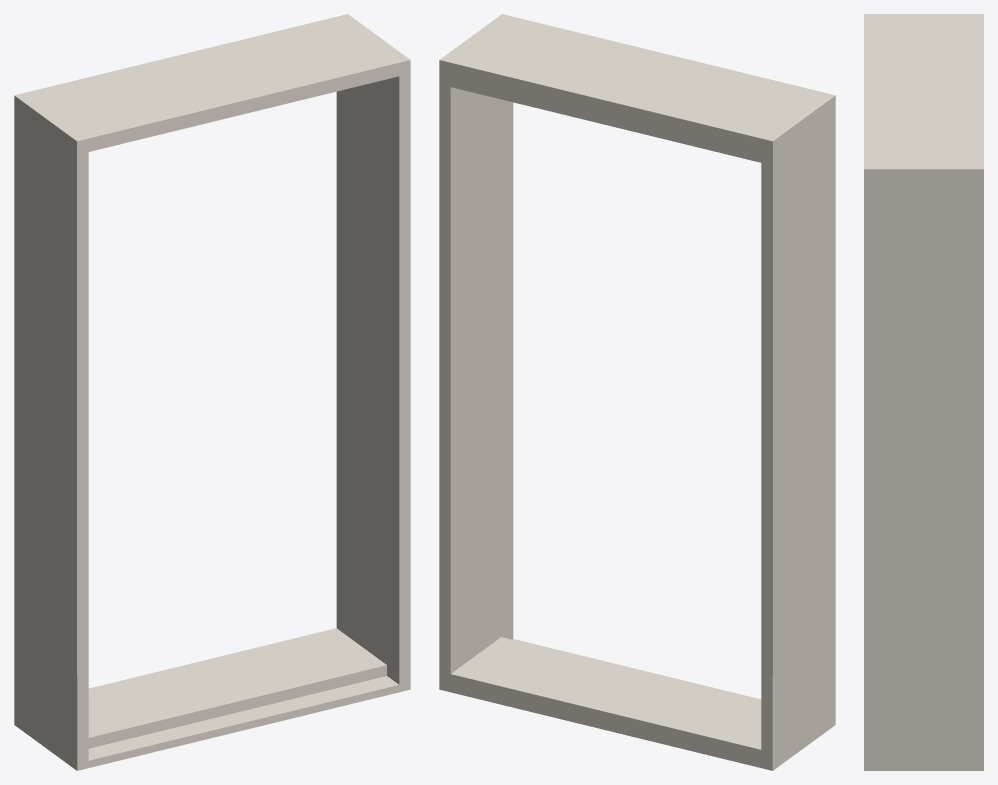
The model's file is Itr_Doorframe_07.FBX.
3 views of the same model, side by side, from view 1: azimuth 30°, elevation 25°; view 2: azimuth 150°, elevation 25°; view 3: azimuth 270°, elevation 25° (orthographic). The views are drawn at different scales.
Visible parts, largest first — view 1: Itr_Doorframe_07; view 2: Itr_Doorframe_07; view 3: Itr_Doorframe_07.
Boxes of the visible parts, bbox=[...] form: Itr_Doorframe_07: bbox=[14, 14, 410, 770]; Itr_Doorframe_07: bbox=[439, 14, 835, 770]; Itr_Doorframe_07: bbox=[864, 14, 983, 770].
Size of the model in its own units: 46.95 by 84.65 by 15.3.
